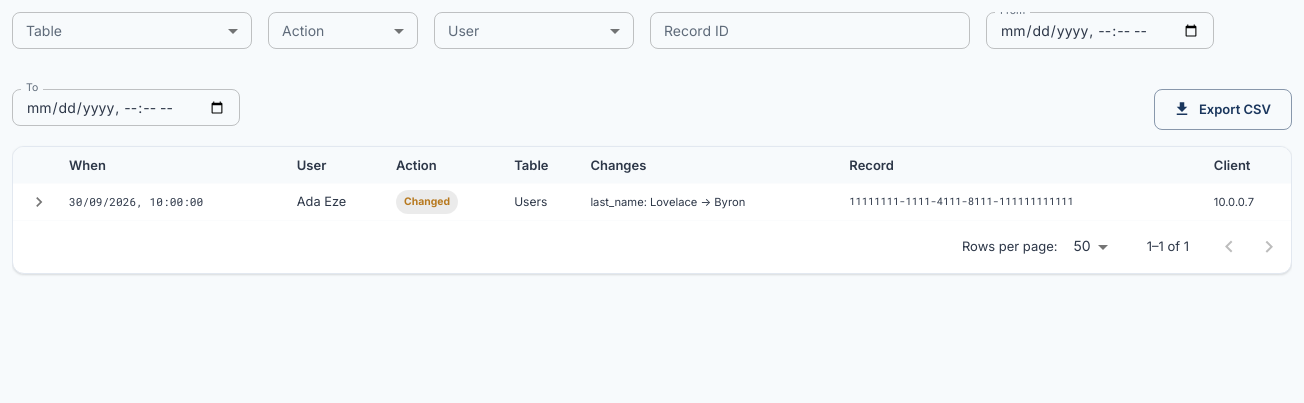
Test: AuditLogTab › lists entries and expands the before/after diff
Expected: the text "Ada Eze" is shown, [289,183,388,220]
Expected: the text "10.0.0.7" is shown, [1206,183,1291,220]
Step 1. Click the button named "Details for update on auth.users" → (39, 202), box [29,192,49,212]
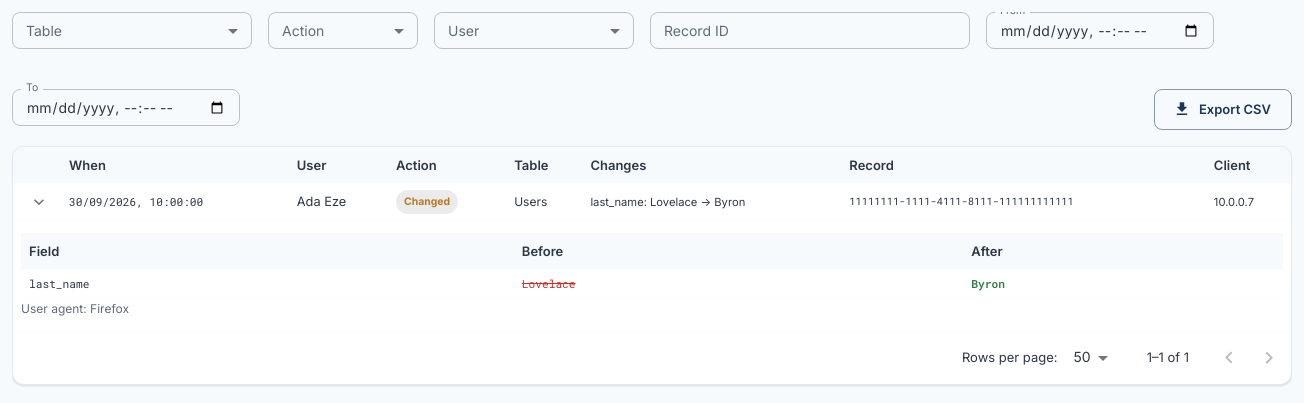
Expected: the text "last_name: Lovelace → Byron" is shown, [582,183,841,220]
Expected: the text "Lovelace" is shown, [514,269,963,298]
Expected: the text "Byron" is shown, [963,269,1283,298]
